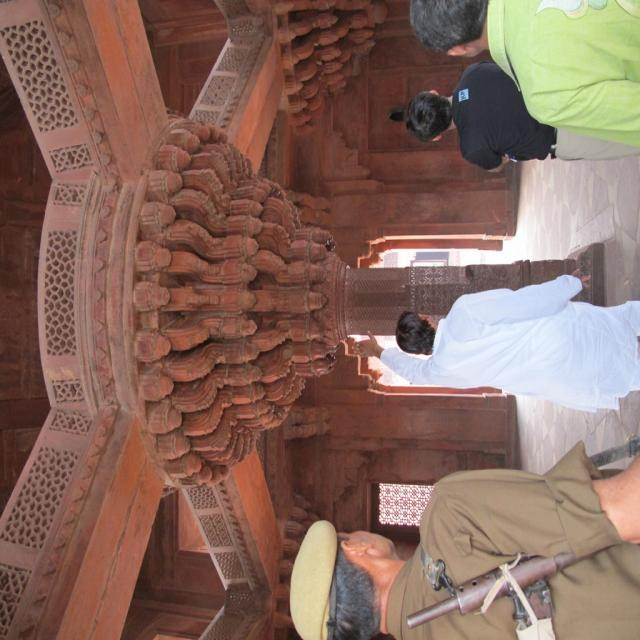heavy-weapon: (406, 547, 616, 639)
